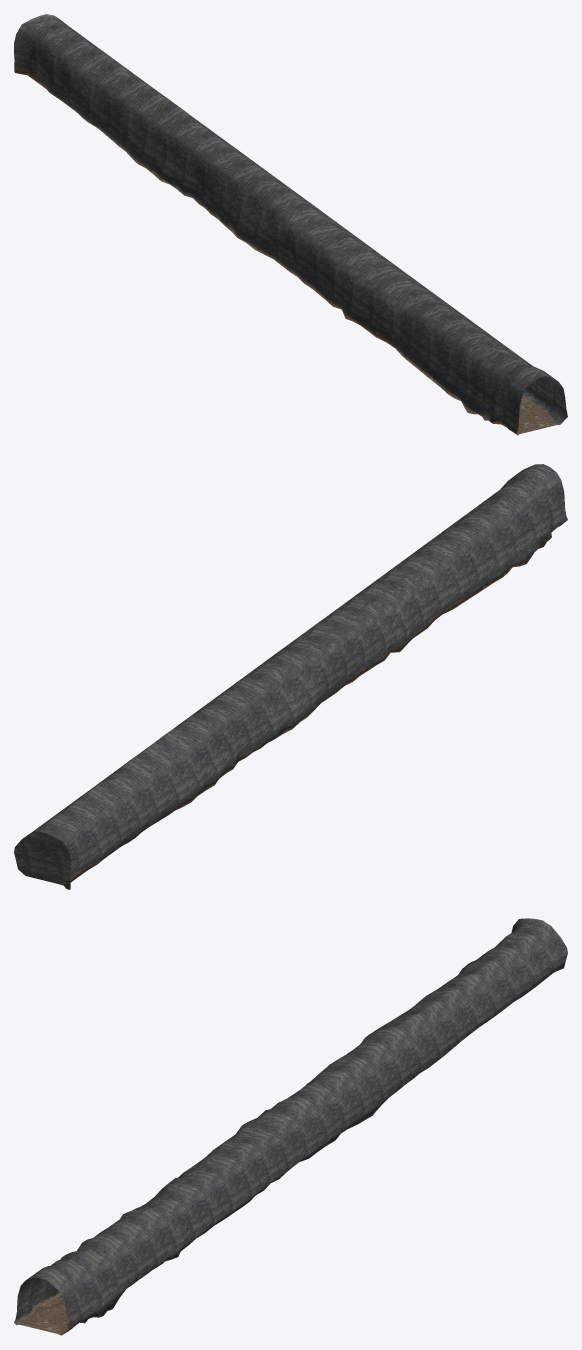
The model's file is piece.obj.
3 views of the same model, one above another, from view 1: azimuth 30°, elevation 25°; view 2: azimuth 150°, elevation 25°; view 3: azimuth 330°, elevation 25° (orthographic).
Visible parts, largest first — view 1: TunnelC; view 2: TunnelC; view 3: TunnelC.
Part boxes in pixels (box(x1,y1,x2,y2)): TunnelC: box(14, 14, 567, 435); TunnelC: box(14, 464, 567, 889); TunnelC: box(14, 918, 567, 1335).
Size of the model in its own units: 3.46 by 3.32 by 49.27.
1 material, 1 textured.
